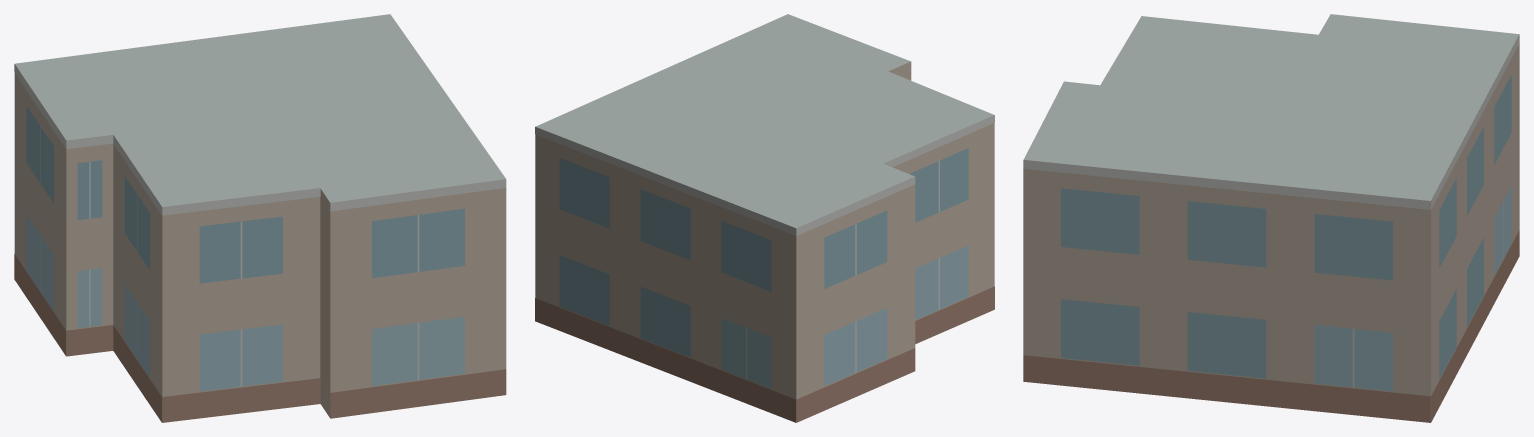
File: survey-upis-32810815.glb
The picture shows the model from 3 angles, left to right: view 1: azimuth 30°, elevation 25°; view 2: azimuth 150°, elevation 25°; view 3: azimuth 270°, elevation 25°; orthographic projection. The views are drawn at different scales.
Visible parts, largest first — view 1: survey-upis-32810815.tmp; view 2: survey-upis-32810815.tmp; view 3: survey-upis-32810815.tmp.
Boxes of the visible parts, x1=… form: survey-upis-32810815.tmp: x1=14, y1=14, x2=506, y2=422; survey-upis-32810815.tmp: x1=535, y1=14, x2=994, y2=422; survey-upis-32810815.tmp: x1=1023, y1=14, x2=1519, y2=422.
Size of the model in its own units: 11.04 by 6.1 by 12.37.
